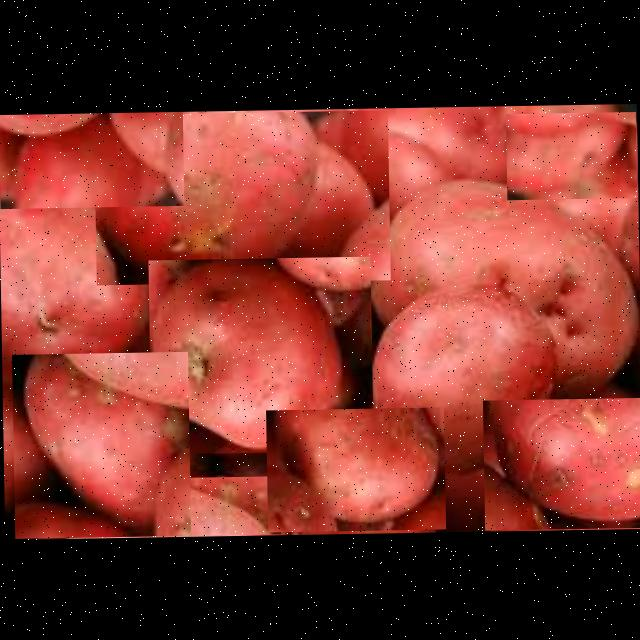Defected potato: (356, 168, 640, 419), (93, 109, 390, 284), (147, 255, 372, 453), (0, 179, 157, 395), (10, 350, 190, 538), (264, 406, 444, 531), (481, 396, 640, 529), (0, 110, 183, 208), (54, 474, 280, 536), (504, 110, 636, 198)
